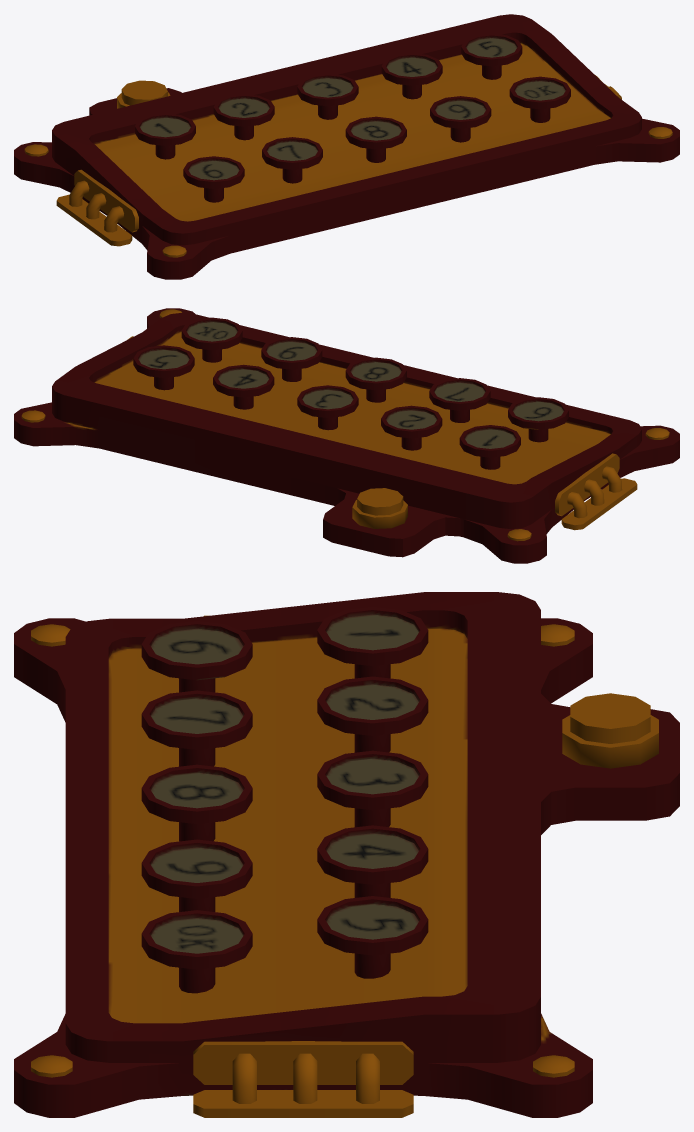
File: keyboard.fbx
3 renders of one model, top to bottom at view 1: azimuth 30°, elevation 25°; view 2: azimuth 150°, elevation 25°; view 3: azimuth 270°, elevation 25°, orthographic. The views are drawn at different scales.
Visible parts, largest first — view 1: Base, pCylinder23, pCylinder20, pCylinder27, pCylinder29, pCylinder28, pCylinder22, pCylinder24, pCylinder26, pCylinder25, pCylinder21, pCube7 (+2 smaller); view 2: Base, pCylinder28, pCylinder22, pCylinder29, pCylinder26, pCylinder27, pCylinder20, pCylinder25, pCylinder23, pCylinder24, pCylinder21, pCube7 (+3 smaller); view 3: Base, pCube6, pCylinder20, pCylinder21, pCylinder25, pCylinder24, pCylinder26, pCylinder27, pCylinder23, pCylinder22, pCylinder28, pCylinder29 (+8 smaller).
Boxes of the visible parts, left/top/right/bottom form: Base: left=14, top=14, right=679, bottom=279; pCylinder23: left=430, top=96, right=491, bottom=142; pCylinder20: left=509, top=76, right=570, bottom=122; pCylinder27: left=262, top=137, right=322, bottom=183; pCylinder29: left=183, top=156, right=244, bottom=202; pCylinder28: left=135, top=113, right=195, bottom=159; pCylinder22: left=381, top=53, right=442, bottom=99; pCylinder24: left=297, top=73, right=358, bottom=119; pCylinder26: left=213, top=94, right=274, bottom=140; pCylinder25: left=345, top=116, right=406, bottom=162; pCylinder21: left=461, top=33, right=522, bottom=79; pCube7: left=56, top=194, right=132, bottom=246; Base: left=14, top=308, right=679, bottom=563; pCylinder28: left=459, top=425, right=520, bottom=469; pCylinder22: left=213, top=364, right=274, bottom=409; pCylinder29: left=508, top=397, right=568, bottom=442; pCylinder26: left=381, top=405, right=442, bottom=450; pCylinder27: left=429, top=378, right=490, bottom=422; pCylinder20: left=181, top=317, right=242, bottom=362; pCylinder25: left=345, top=357, right=406, bottom=402; pCylinder23: left=261, top=337, right=322, bottom=381; pCylinder24: left=297, top=385, right=358, bottom=430; pCylinder21: left=133, top=345, right=194, bottom=390; pCube7: left=561, top=478, right=637, bottom=530; Base: left=14, top=592, right=679, bottom=1117; pCube6: left=193, top=1041, right=413, bottom=1084; pCylinder20: left=141, top=910, right=252, bottom=993; pCylinder21: left=317, top=896, right=428, bottom=978; pCylinder25: left=141, top=764, right=252, bottom=841; pCylinder24: left=317, top=750, right=428, bottom=827; pCylinder26: left=317, top=676, right=428, bottom=752; pCylinder27: left=141, top=690, right=252, bottom=766; pCylinder23: left=141, top=839, right=252, bottom=911; pCylinder22: left=317, top=825, right=428, bottom=897; pCylinder28: left=317, top=606, right=428, bottom=678; pCylinder29: left=141, top=620, right=252, bottom=692.
Size of the model in its own units: 0.3772 by 0.0417 by 0.2276.
